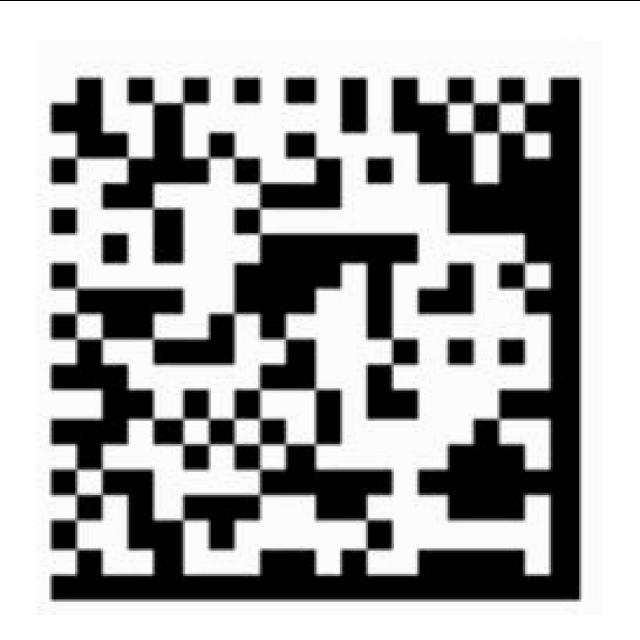Data-Matrix: (35, 40, 603, 614)
